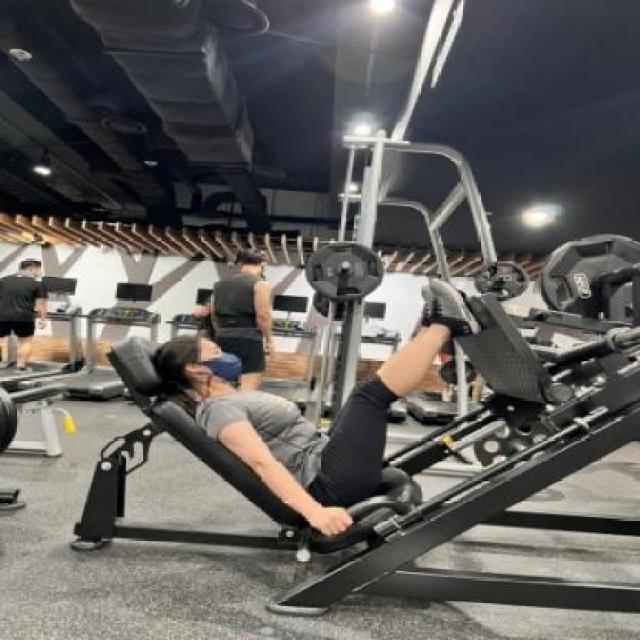leg press: (64, 187, 640, 618)
